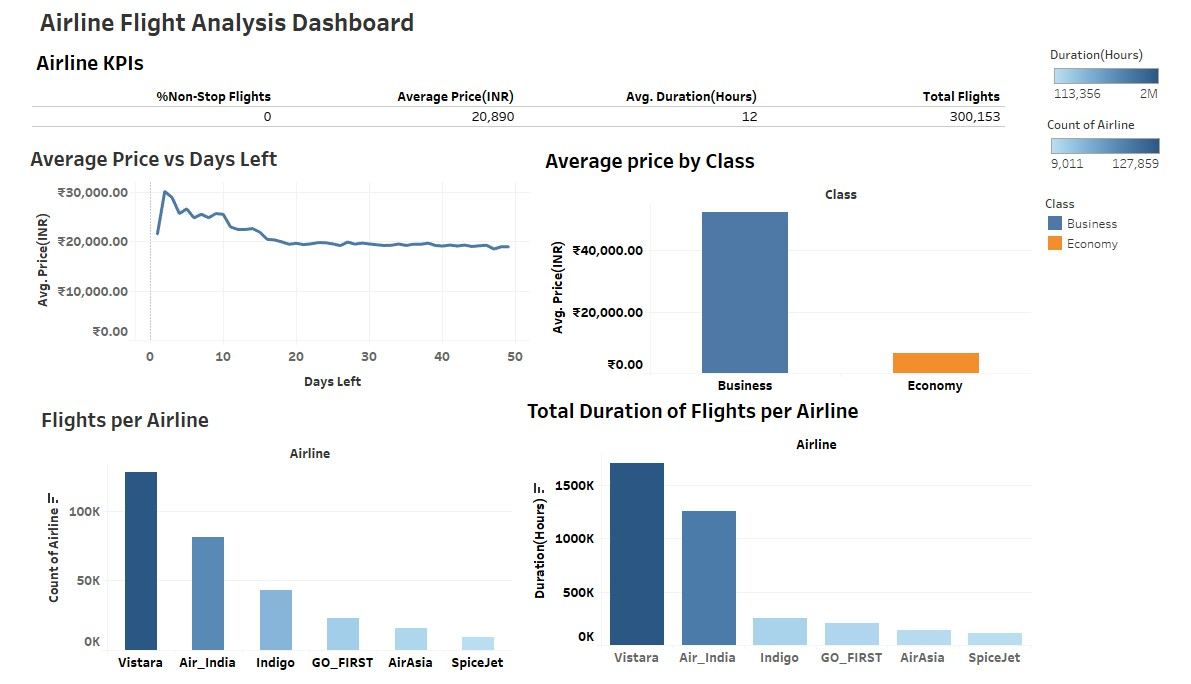

What the dashboard file says about the page in this screenshot:
{"tool":"tableau","page":{"name":"Dashboard 1","canvas":[1000,1000],"units":"permille","ordinal":0},"visuals":[{"type":"title","box":[7,9.3,986,48.8]},{"type":"legend","title":"Total Duration of Flights per Airline","param":"[federated.1002au502o8brl14znfmc0g7f1vu].[sum:duration:qk]","box":[886.8,58.1,106.2,89.5]},{"type":"worksheet","title":"KPIs","mark":"Automatic","box":[6.2,59.3,864.8,98.8]},{"type":"legend","title":"Flights per Airline","param":"[federated.1002au502o8brl14znfmc0g7f1vu].[cnt:airline:qk]","box":[888.5,143,101.8,88.4]},{"type":"worksheet","title":"Avg price v Days left ","mark":"Automatic","rows":["price"],"cols":["days_left"],"box":[0.9,170.9,438.1,298.8]},{"type":"worksheet","title":"Average price by Class","mark":"Automatic","rows":["price"],"cols":["class"],"box":[448.6,173.3,425.8,294.2]},{"type":"legend","title":"Average price by Class","param":"[federated.1002au502o8brl14znfmc0g7f1vu].[none:class:nk]","box":[886.7,234.9,116.8,67.4]},{"type":"worksheet","title":"Total Duration of Flights per Airline","mark":"Automatic","rows":["duration"],"cols":["airline"],"box":[432.8,463.9,442.5,319.8]},{"type":"worksheet","title":"Flights per Airline","mark":"Automatic","rows":["airline"],"cols":["airline"],"box":[10.5,474.4,412.6,315.1]}]}

Visuals, with their boxes on the dashboard's canvas, which has no fixed pixel size, in thousandths of its width and height (x1, y1, x2, y2). These are canvas units, not pixel positions in the 1191x684 screenshot, which may show the page scaled, cropped or inside an application window:
title: pyautogui.locateOnScreen(7, 9, 993, 58)
"Total Duration of Flights per Airline" legend: pyautogui.locateOnScreen(887, 58, 993, 148)
"KPIs" worksheet: pyautogui.locateOnScreen(6, 59, 871, 158)
"Flights per Airline" legend: pyautogui.locateOnScreen(888, 143, 990, 231)
"Avg price v Days left " worksheet: pyautogui.locateOnScreen(1, 171, 439, 470)
"Average price by Class" worksheet: pyautogui.locateOnScreen(449, 173, 874, 468)
"Average price by Class" legend: pyautogui.locateOnScreen(887, 235, 1004, 302)
"Total Duration of Flights per Airline" worksheet: pyautogui.locateOnScreen(433, 464, 875, 784)
"Flights per Airline" worksheet: pyautogui.locateOnScreen(10, 474, 423, 790)
